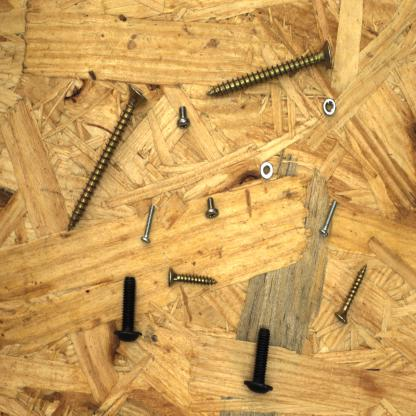screw: (65, 79, 150, 235), (204, 38, 336, 99), (241, 324, 276, 396), (332, 261, 370, 327), (111, 272, 144, 344), (165, 265, 222, 290), (318, 198, 340, 238), (140, 202, 158, 245), (172, 104, 192, 130), (203, 196, 221, 220)
